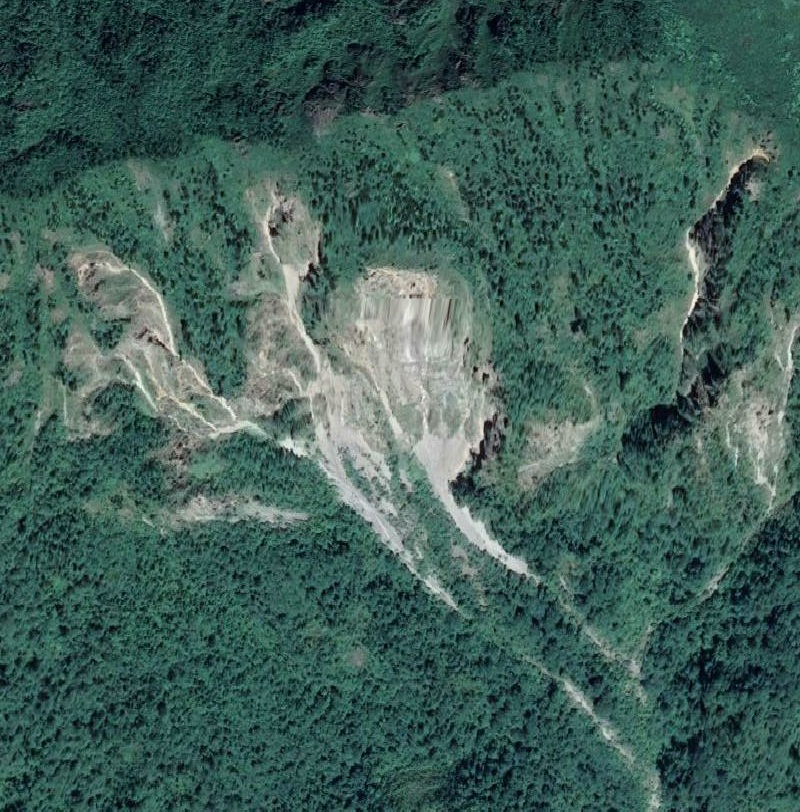slope: (327, 256, 513, 579), (711, 310, 799, 495)
